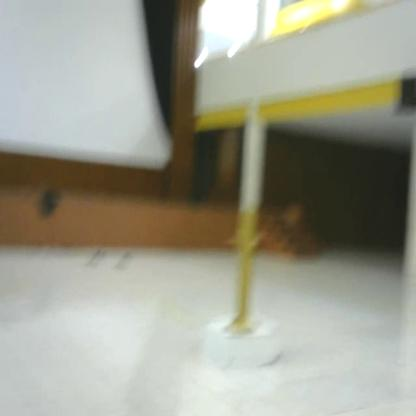pole: (226, 202, 266, 336)
